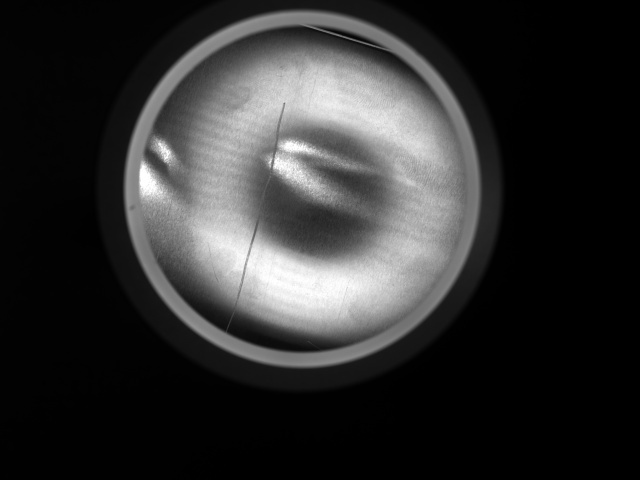ca_shang: (223, 97, 289, 328)
